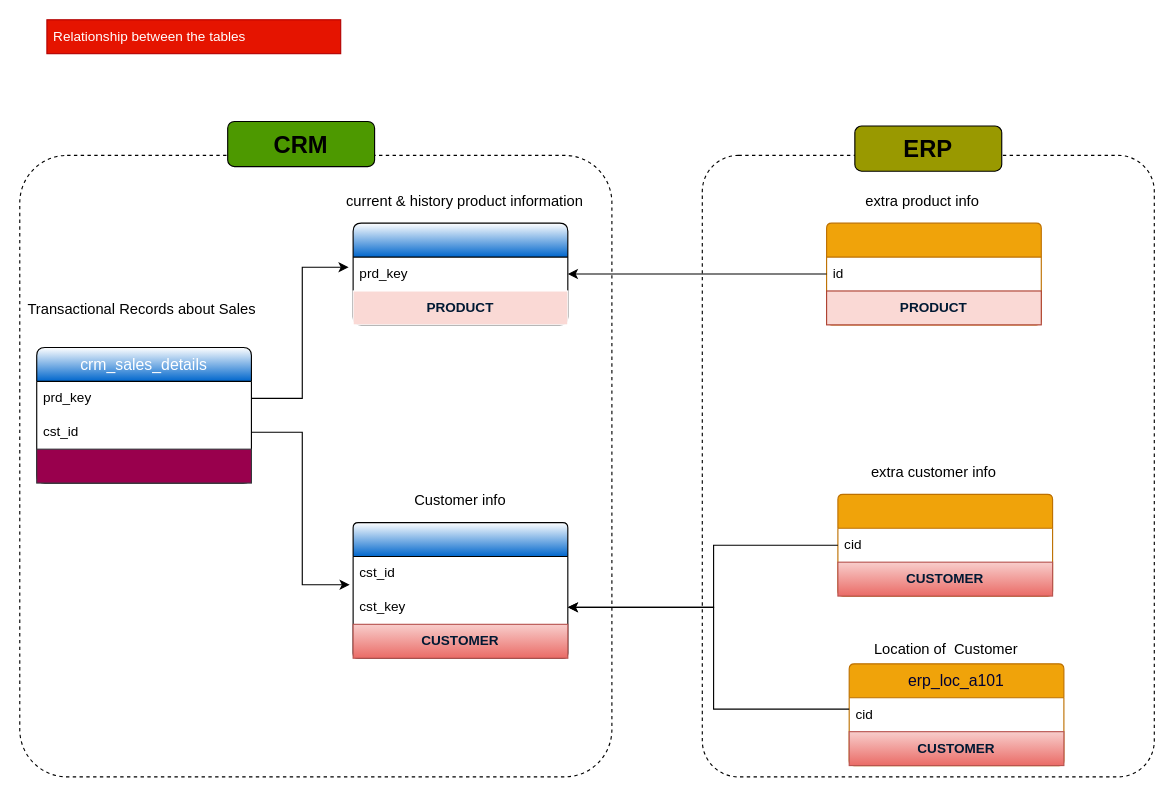
Some shapes in this 1174 by 797 pixel diagram are drawn without their labels. The shapes that lost their labels are listed below. From the top down, each one's box as (x1, y1, x2, y2) in pixels, then its label:
(352, 222, 568, 325): crm_prd_info
(825, 222, 1041, 325): erp_px_cat_g1v2
(36, 448, 251, 483): SALES
(837, 493, 1053, 596): erp_cust_az12
(352, 521, 568, 658): crm_cust_info
